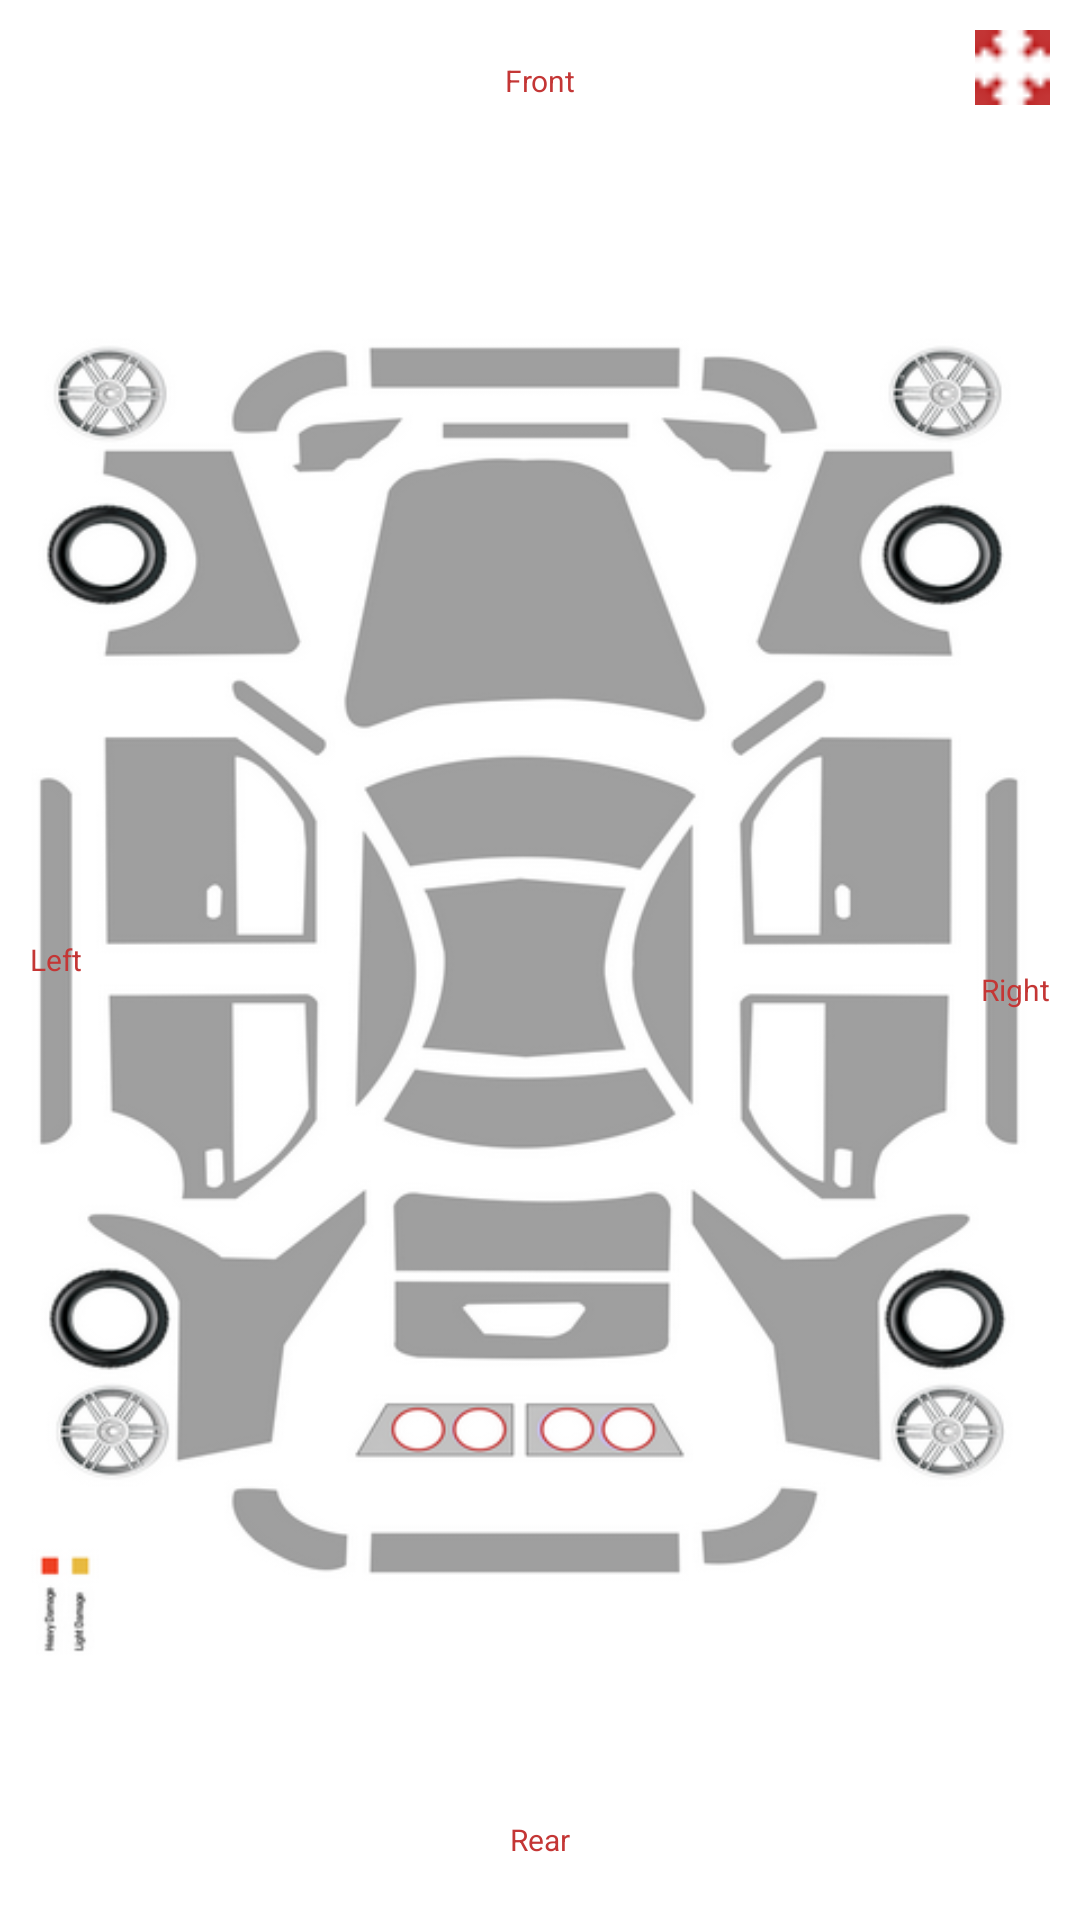

Icon click points for this 1080*1920 phone screenshot, format (x=x, y=y):
maximize: (x=1012, y=67)
